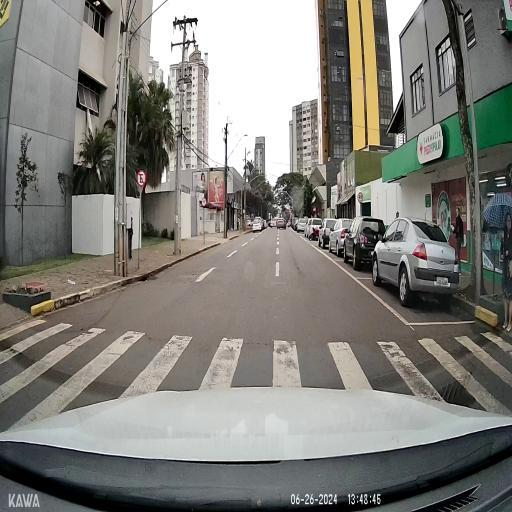R-19: (358, 192, 364, 203), (202, 198, 206, 206)
R-6a: (136, 170, 146, 187)
